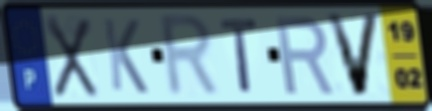K: (100, 16, 151, 97)
R: (158, 12, 223, 101), (273, 14, 337, 97)
T: (218, 16, 262, 95)
V: (322, 11, 384, 99)
X: (42, 13, 100, 100)
